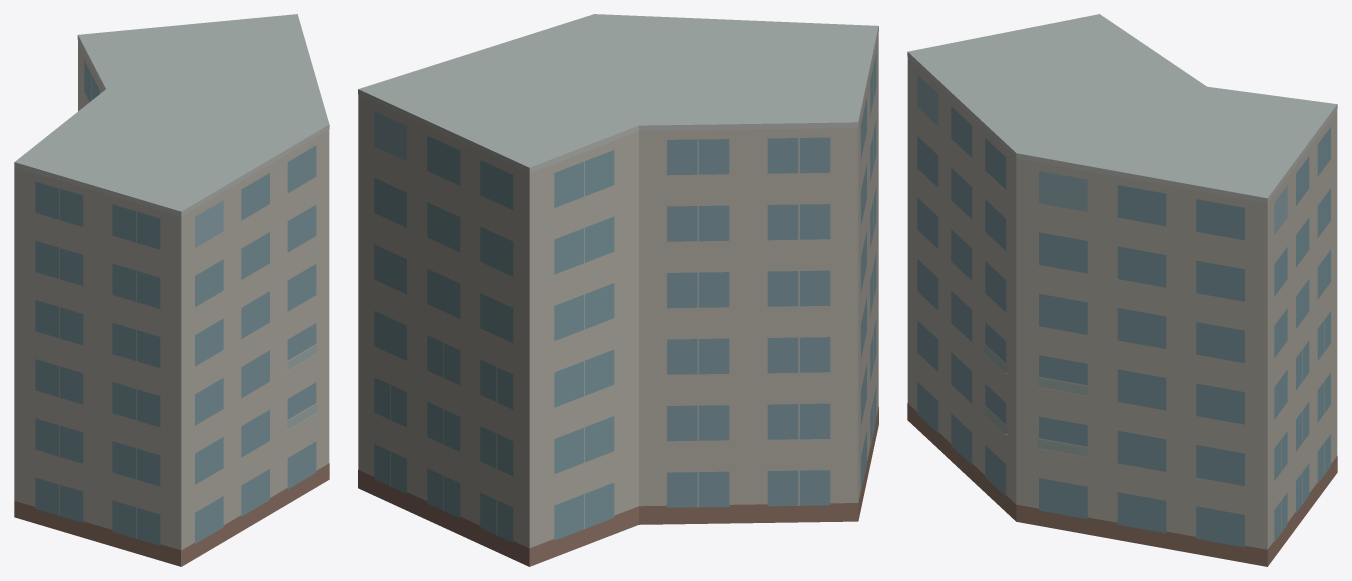
Rendered from survey-upis-32876937.glb.
3 views of the same model, side by side, from view 1: azimuth 30°, elevation 25°; view 2: azimuth 150°, elevation 25°; view 3: azimuth 270°, elevation 25° (orthographic). The views are drawn at different scales.
Visible parts, largest first — view 1: survey-upis-32876937.tmp; view 2: survey-upis-32876937.tmp; view 3: survey-upis-32876937.tmp.
Part boxes in pixels (x1,y1,x2,y2): survey-upis-32876937.tmp: (14, 14, 329, 566); survey-upis-32876937.tmp: (358, 14, 878, 566); survey-upis-32876937.tmp: (907, 14, 1337, 566).
Bounding box in the file's own units: 18.67 × 17.4 × 18.4.
